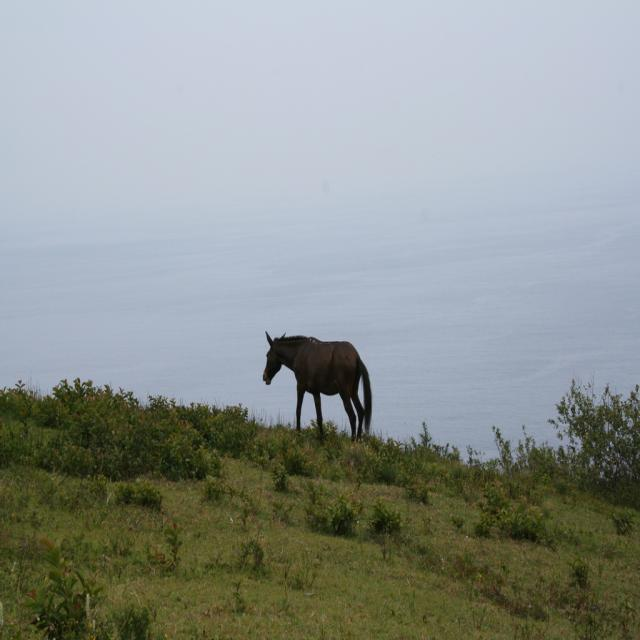Horse: (262, 332, 372, 454)
